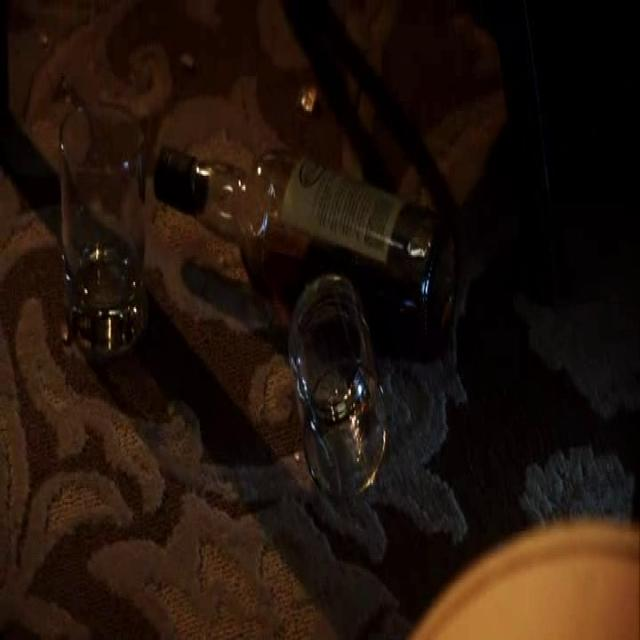Bottle: (147, 116, 442, 299)
Cup: (42, 89, 148, 368), (289, 280, 385, 510)
